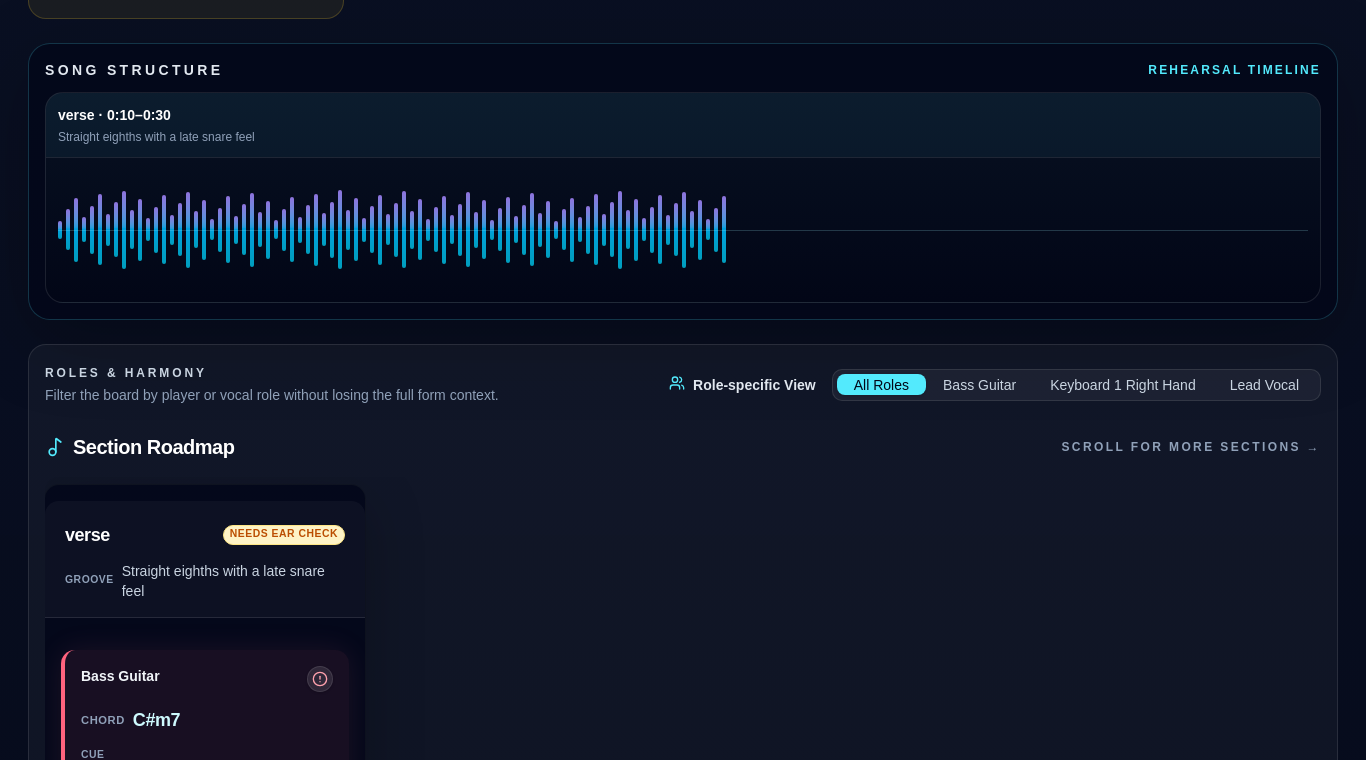
Test case: Workspace › renders collaboration summaries and role-specific rehearsal planning details
(page scrolled)
What coordinates should you click on to do the following:
click the tab "Bass Guitar"
I would click on:
 (980, 385)
Its box is x1=926 y1=374 x2=1033 y2=395.
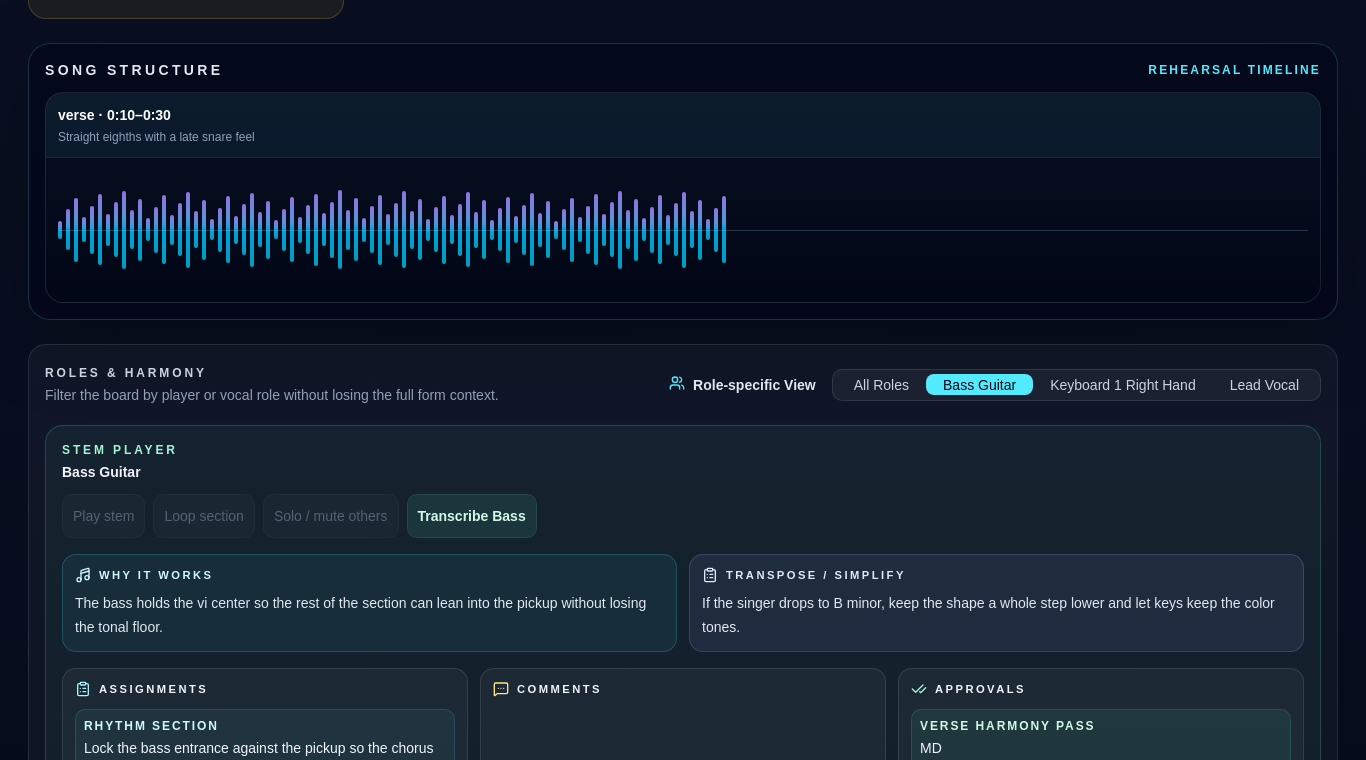
Expected: the text "The bass holds the vi center" is shown, x1=75 y1=595 x2=646 y2=635
Expected: the text "whole step lower" is shown, x1=702 y1=595 x2=1275 y2=635
Expected: the text "Verse harmony pass" is shown, x1=920 y1=719 x2=1096 y2=733
